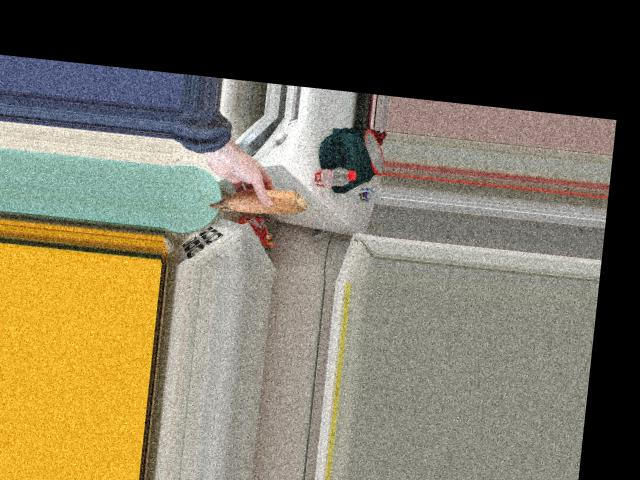sweet_potato: (213, 181, 307, 217)
